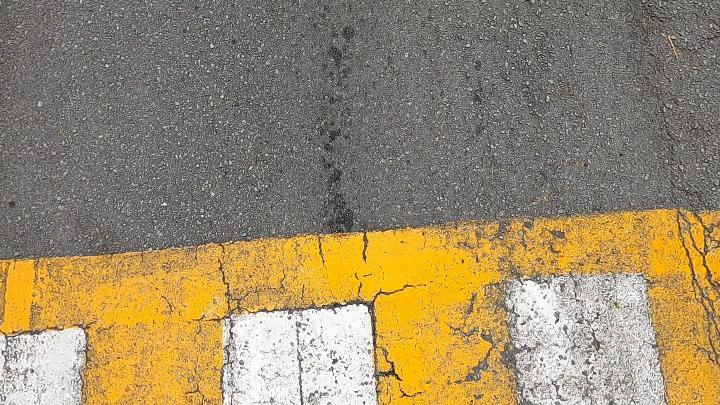Lane: (0, 204, 720, 405), (0, 203, 719, 404)
